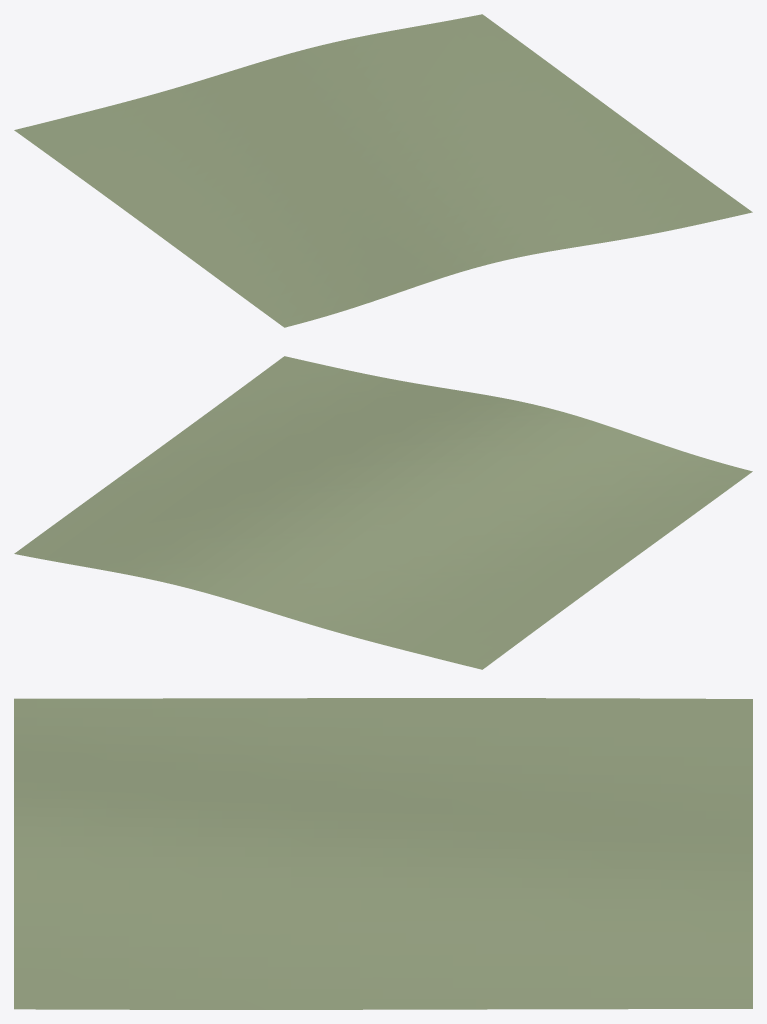
File: desert-11-5.glb
The picture shows the model from 3 angles, top to bottom: view 1: azimuth 30°, elevation 25°; view 2: azimuth 150°, elevation 25°; view 3: azimuth 270°, elevation 25°; orthographic projection. The views are drawn at different scales.
Visible parts, largest first — view 1: desert-11-5; view 2: desert-11-5; view 3: desert-11-5.
Boxes of the visible parts, left/top/right/bottom form: desert-11-5: left=14, top=14, right=752, bottom=327; desert-11-5: left=14, top=356, right=752, bottom=669; desert-11-5: left=14, top=698, right=752, bottom=1009.
Bounding box in the file's own units: 512 × 14.59 × 512.
